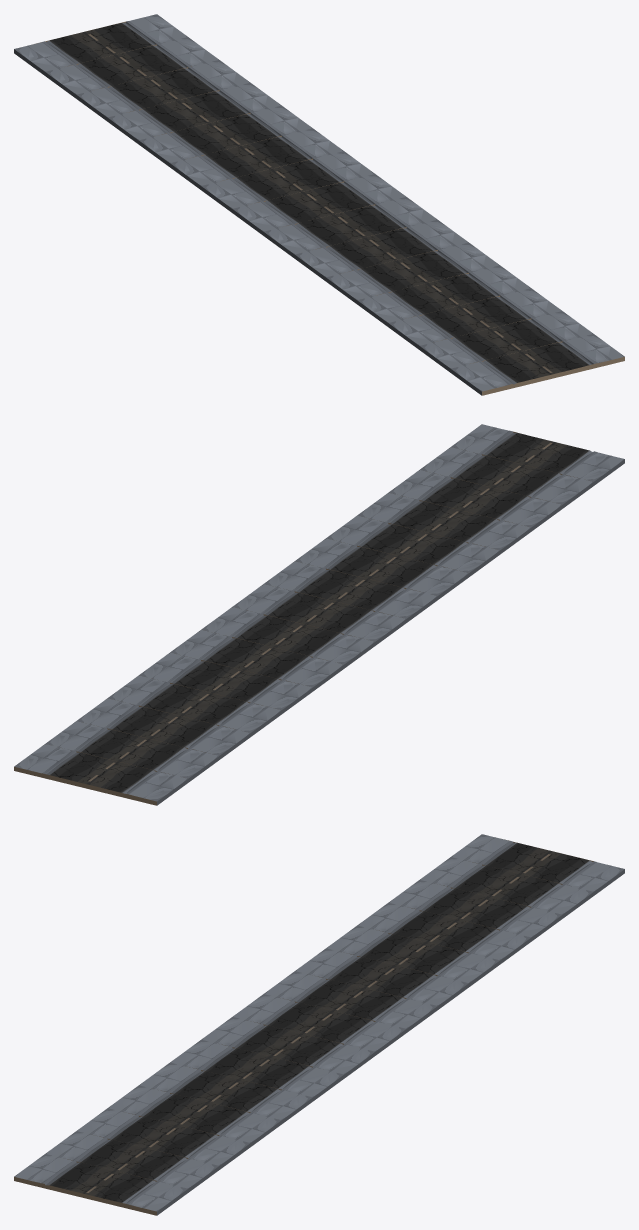
Rendered from Road_Long.fbx.
3 renders of one model, top to bottom at view 1: azimuth 30°, elevation 25°; view 2: azimuth 150°, elevation 25°; view 3: azimuth 330°, elevation 25°, orthographic.
Parts seen in each view (by area): view 1: Road_2_1; view 2: Road_2_1; view 3: Road_2_1.
Part boxes in pixels (bbox=[...]): Road_2_1: bbox=[14, 14, 624, 395]; Road_2_1: bbox=[14, 424, 624, 805]; Road_2_1: bbox=[14, 834, 624, 1215].
Bounding box in the file's own units: 1300 × 39.52 × 7367.
Materials: 2 (2 with a texture image).
